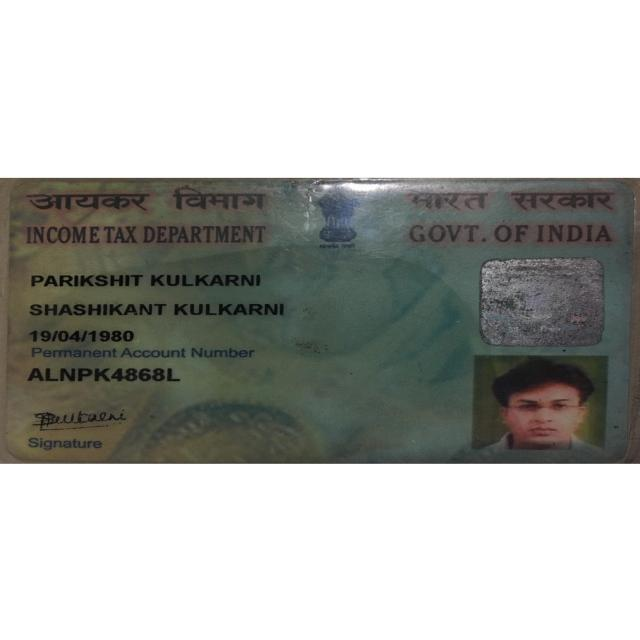pan_card: (1, 178, 638, 464)
